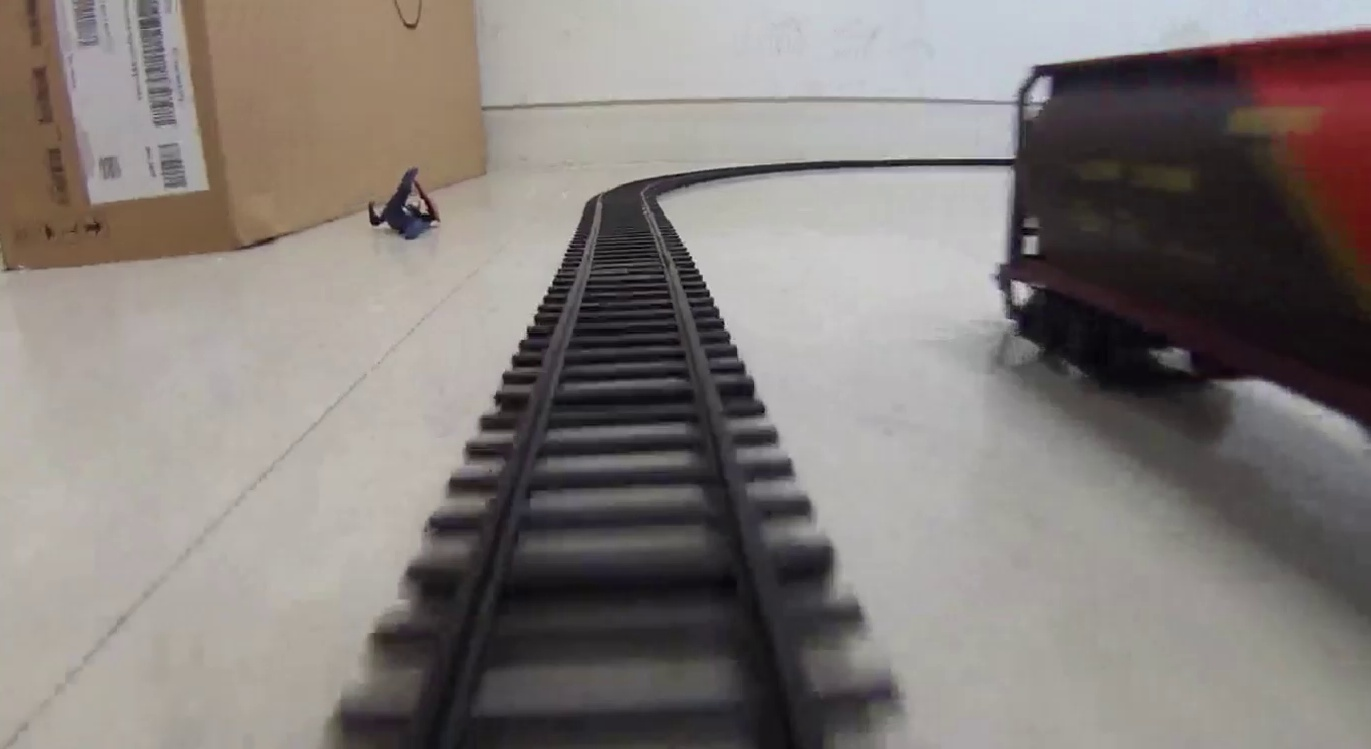people: (364, 167, 440, 245)
